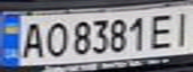1: (127, 14, 151, 52)
3: (90, 17, 112, 55)
8: (69, 17, 93, 56), (109, 16, 130, 54)
A: (15, 19, 48, 60)
E: (145, 10, 178, 51)
I: (169, 7, 193, 47)
O: (42, 19, 69, 58)
